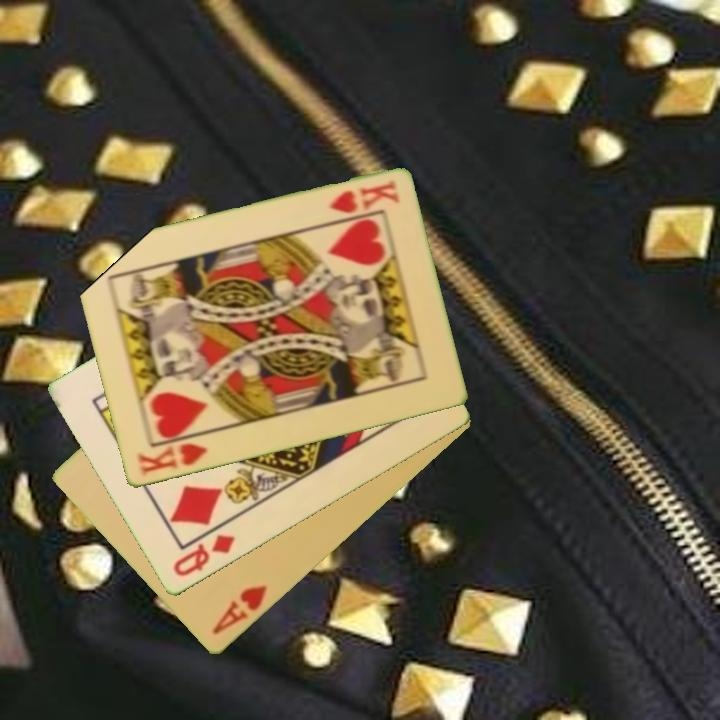Ah: (208, 581, 270, 638)
Kh: (135, 430, 212, 480), (325, 176, 402, 217)
Qd: (169, 531, 238, 580)
